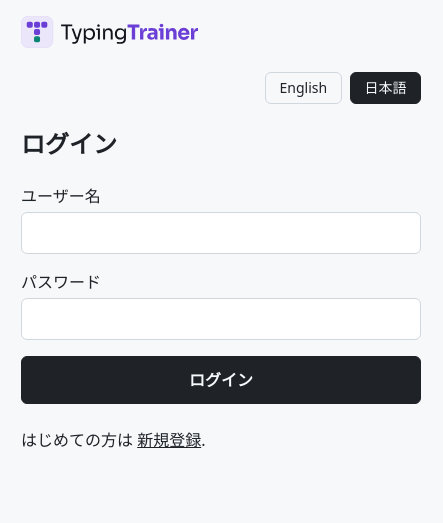
Test case: the sign-in and registration screens in Japanese › sign-in reads in Japanese, and asks for both fields in Japanese
This screenshot has width=443, height=523.
Expected: the heading "ログイン" is shown, [21,127,117,160]
Expected: the field labelled "ユーザー名" is shown, [21,212,421,254]
Click the button "ログイン" at (221, 380), box [21,356,421,404]
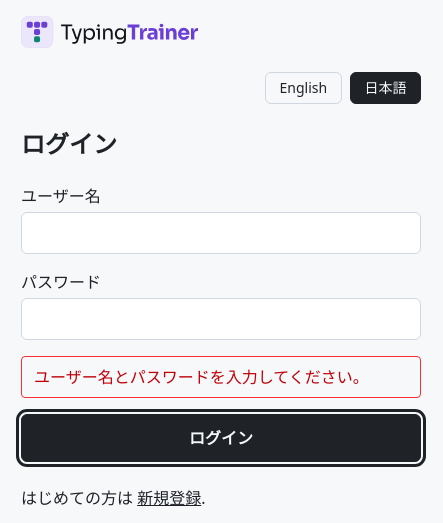
Now the message reads "ユーザー名とパスワードを入力してください。", box [34,366,369,388]
